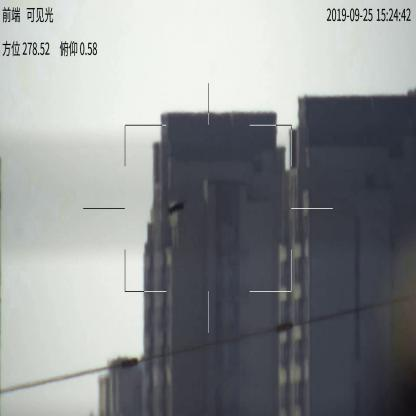uav: (166, 199, 183, 214)
